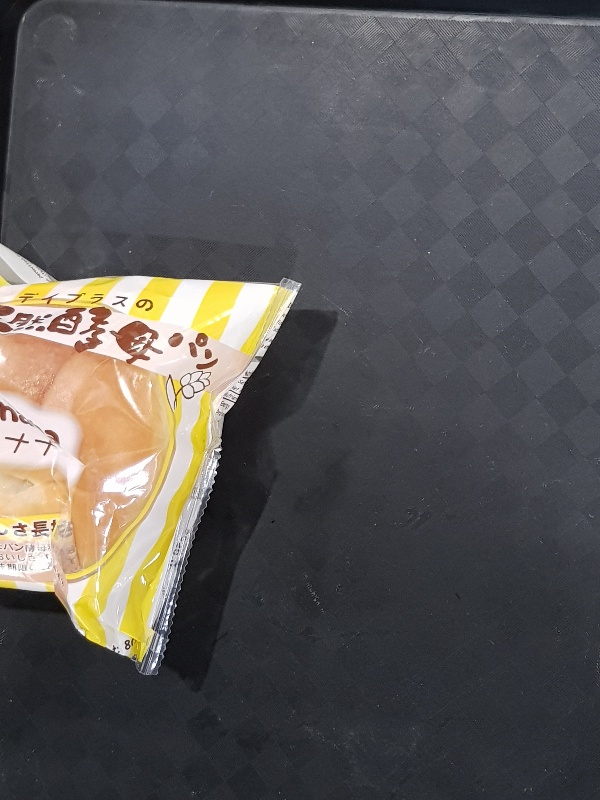Dayplus Banana: (1, 242, 301, 677)
